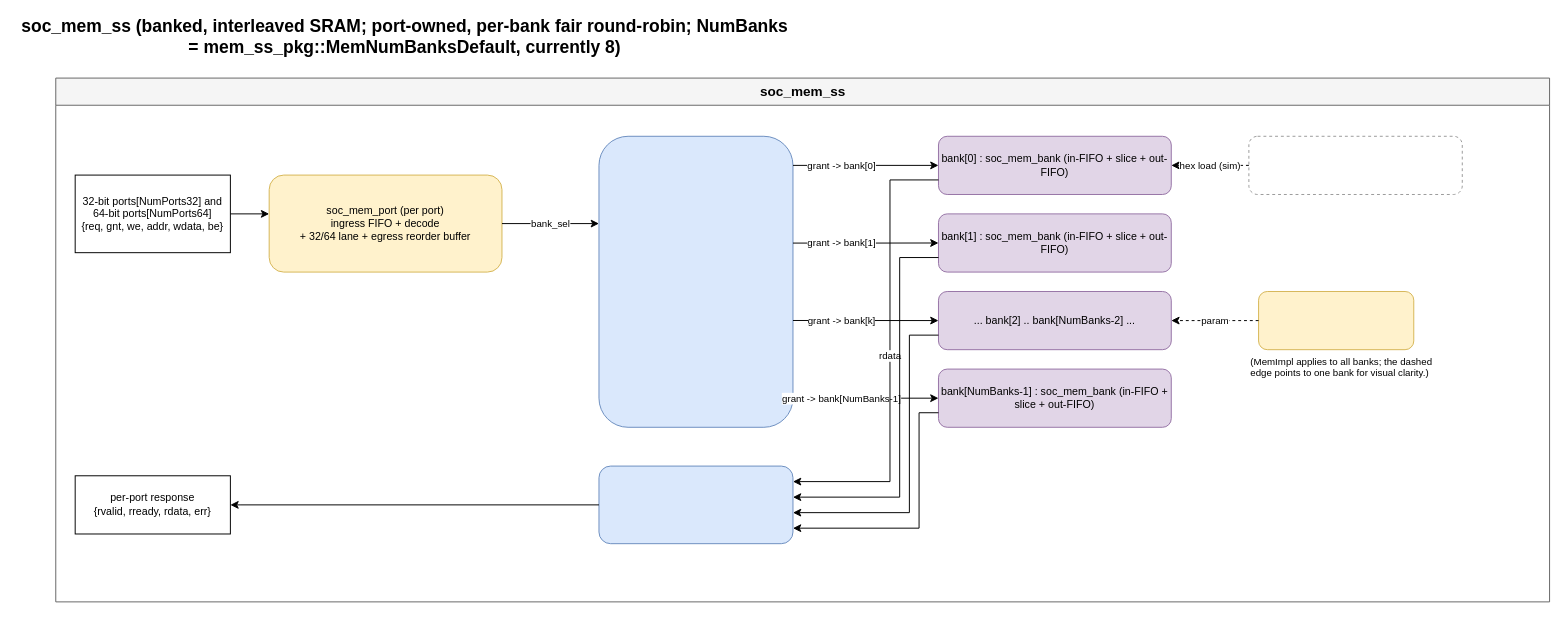
Image size: 1567x619. Some labels were removed from this diagram. Here are the shapes that lost their labels. From the top down, the centre of each, then its label:
[1355,164]: MemInitPath / +MEM_PATH loads bank_N.hex (sim only)
[695,281]: request crossbar + per-bank fair round-robin (rr_arb_tree)
[1336,320]: MemImpl {Model | Xilinx}
[695,504]: response crossbar (bank to owning port's egress reorder slot)
